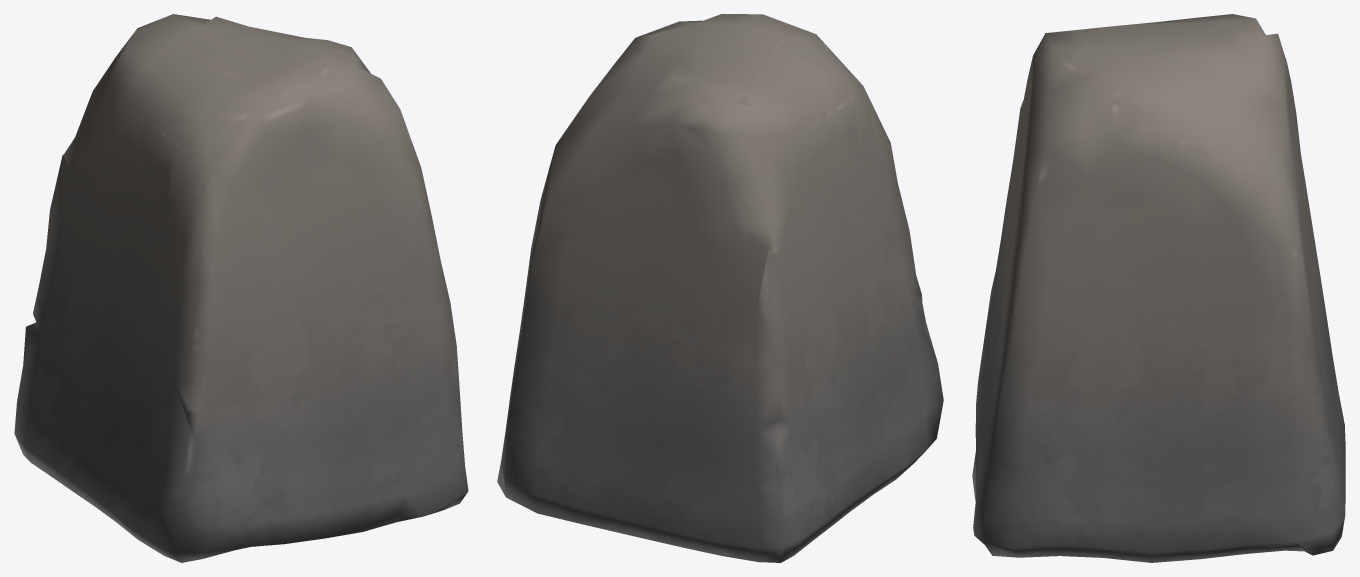
The model's file is 臭石头.fbx.
The picture shows the model from 3 angles, left to right: view 1: azimuth 30°, elevation 25°; view 2: azimuth 150°, elevation 25°; view 3: azimuth 270°, elevation 25°; orthographic projection. The views are drawn at different scales.
Visible parts, largest first — view 1: Extract0.002; view 2: Extract0.002; view 3: Extract0.002.
Part boxes in pixels (x1=…): Extract0.002: x1=14, y1=14, x2=468, y2=562; Extract0.002: x1=497, y1=14, x2=943, y2=562; Extract0.002: x1=972, y1=14, x2=1345, y2=562.
Size of the model in its own units: 196 by 258 by 196.
Materials: 1 (1 with a texture image).
